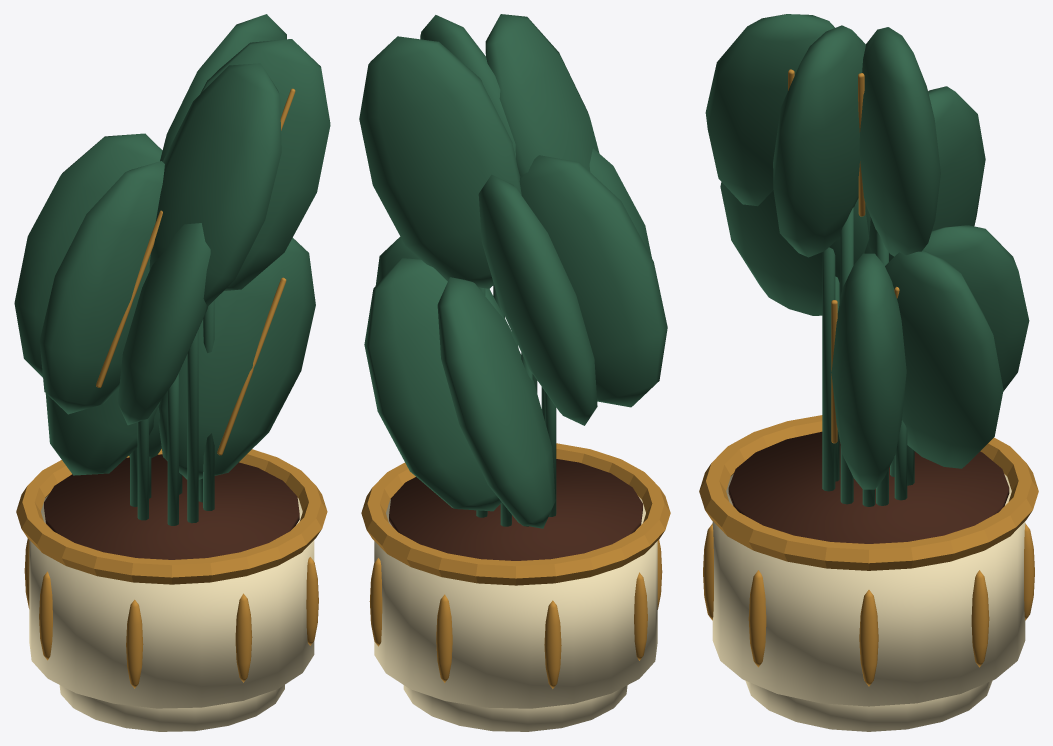
The model's file is plant.glb.
The picture shows the model from 3 angles, left to right: view 1: azimuth 30°, elevation 25°; view 2: azimuth 150°, elevation 25°; view 3: azimuth 270°, elevation 25°; orthographic projection. The views are drawn at different scales.
Parts seen in each view (by area): view 1: plant; view 2: plant; view 3: plant.
Part boxes in pixels (x1=…): plant: x1=14, y1=14, x2=330, y2=731; plant: x1=359, y1=14, x2=670, y2=731; plant: x1=699, y1=14, x2=1038, y2=731.
Size of the model in its own units: 0.6508 by 1.42 by 0.63.
